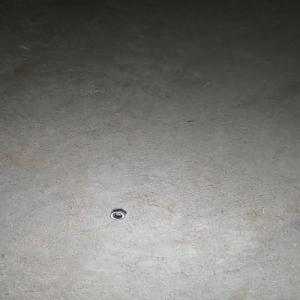Nut: (108, 210, 126, 220)
